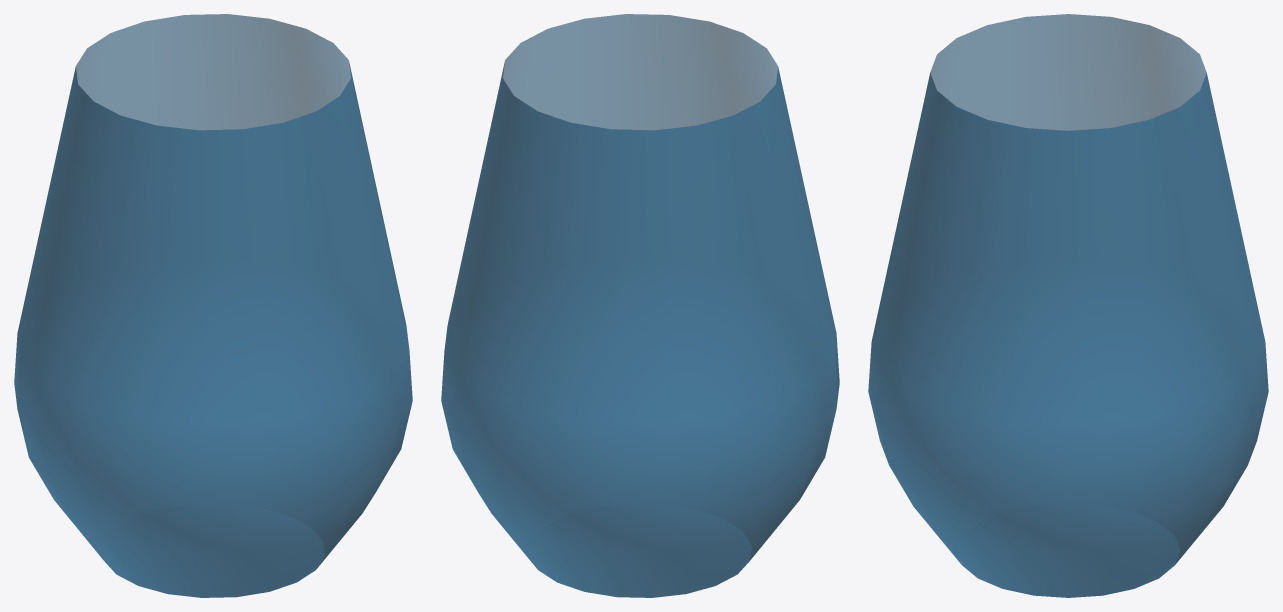
The model's file is Glass.glb.
3 views of the same model, side by side, from view 1: azimuth 30°, elevation 25°; view 2: azimuth 150°, elevation 25°; view 3: azimuth 270°, elevation 25° (orthographic).
Parts seen in each view (by area): view 1: pCylinder82; view 2: pCylinder82; view 3: pCylinder82.
Part boxes in pixels (x1=…): pCylinder82: x1=14, y1=14, x2=412, y2=597; pCylinder82: x1=441, y1=14, x2=839, y2=597; pCylinder82: x1=868, y1=14, x2=1268, y2=597.
Size of the model in its own units: 0.0761 by 0.1003 by 0.0761.
